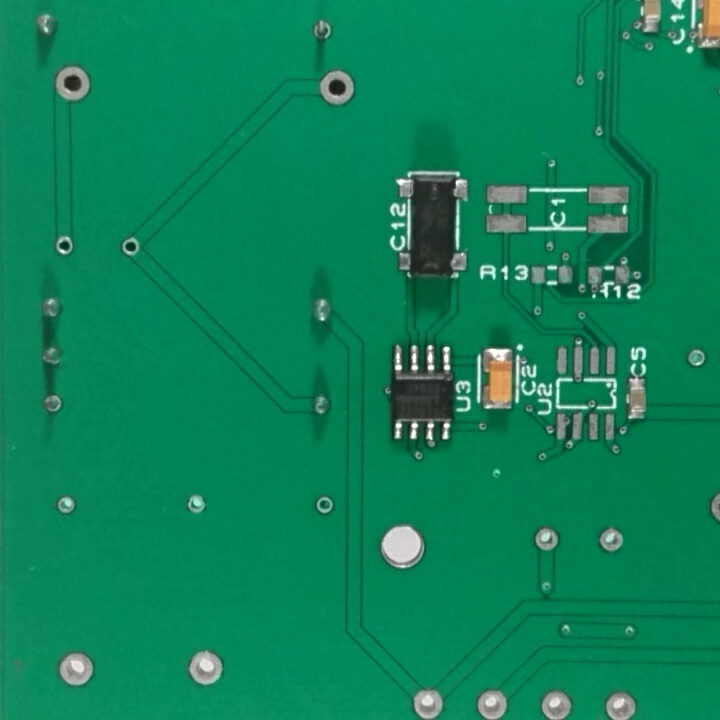F: (182, 647, 227, 691), (50, 62, 93, 106), (317, 68, 359, 110), (53, 649, 93, 688), (473, 686, 513, 720), (602, 686, 641, 720), (592, 523, 630, 557), (410, 685, 446, 720), (536, 687, 574, 720), (531, 524, 562, 556), (37, 389, 68, 418), (307, 15, 336, 45), (50, 232, 78, 259), (682, 346, 710, 373), (181, 492, 210, 518), (53, 492, 77, 519), (117, 235, 141, 260), (310, 494, 335, 517)
